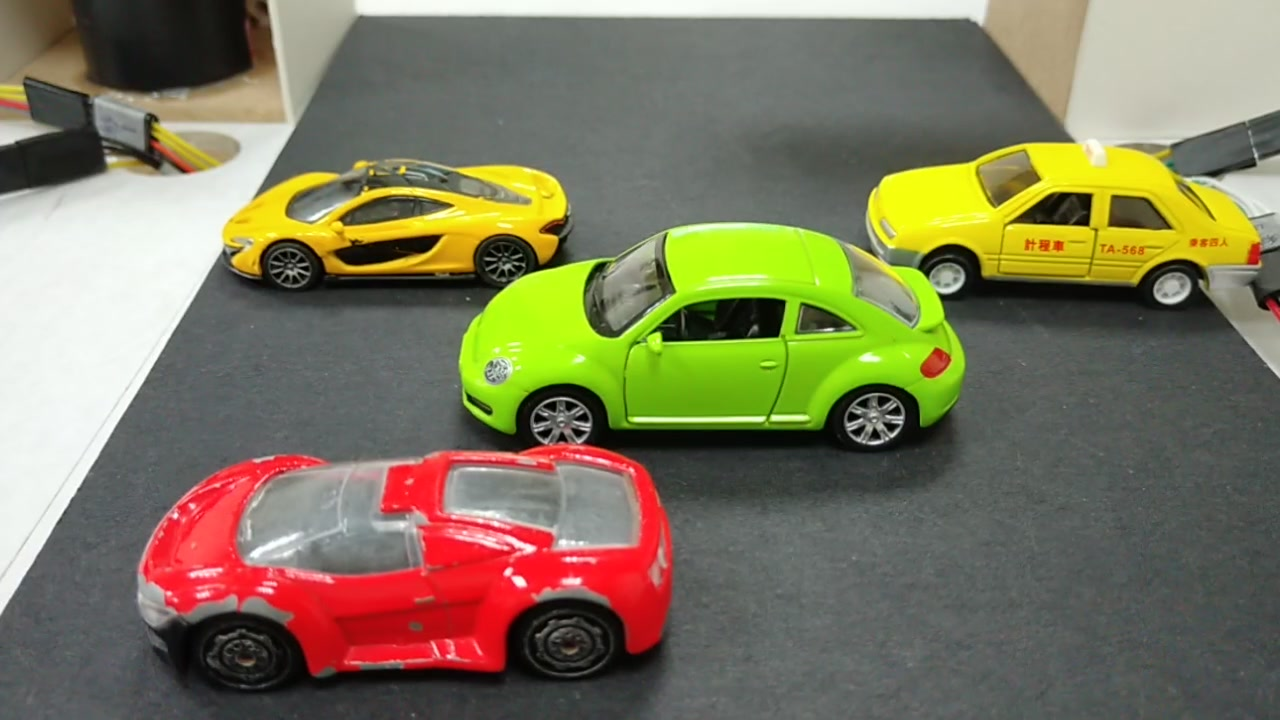car: (140, 448, 674, 671), (475, 235, 963, 456), (870, 147, 1264, 319), (227, 157, 575, 293)
